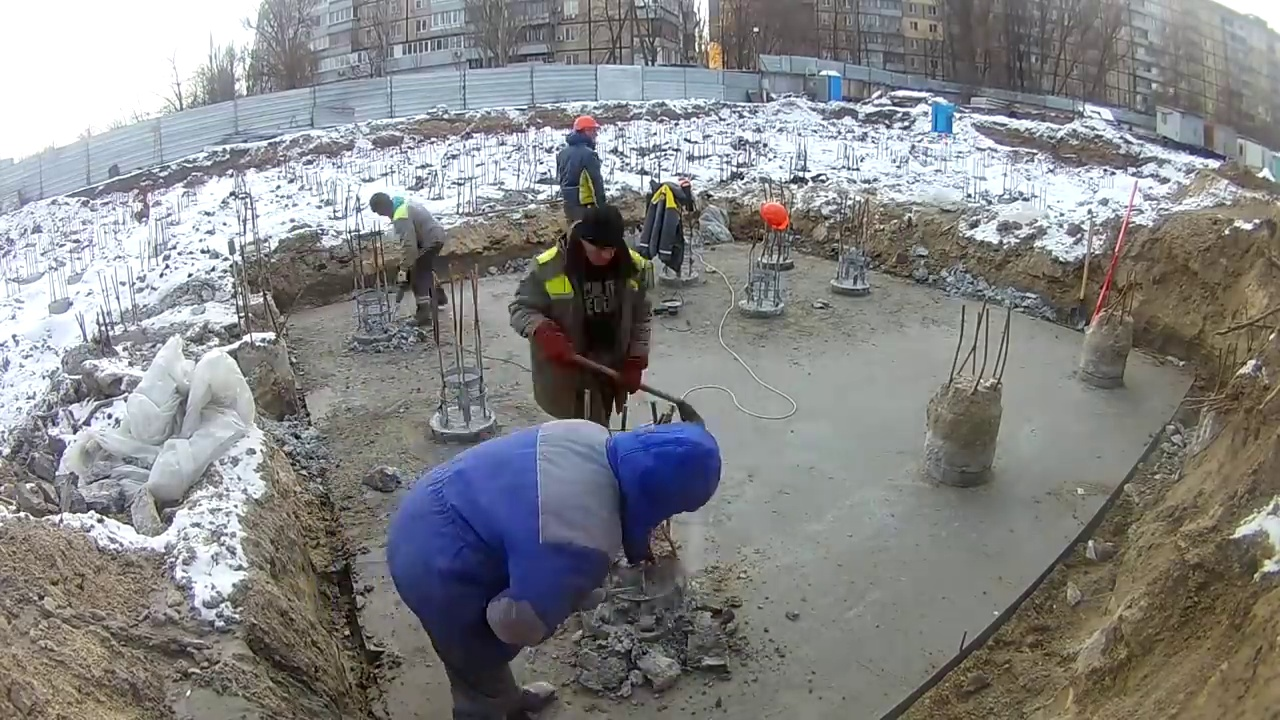helmet: (760, 203, 790, 230), (571, 116, 600, 133)
helmet-off: (605, 420, 725, 526), (575, 208, 626, 265), (369, 190, 406, 220)
helmet-on: (570, 115, 600, 150)
person: (384, 419, 728, 715), (510, 204, 653, 424), (369, 189, 451, 327), (555, 116, 603, 220)
